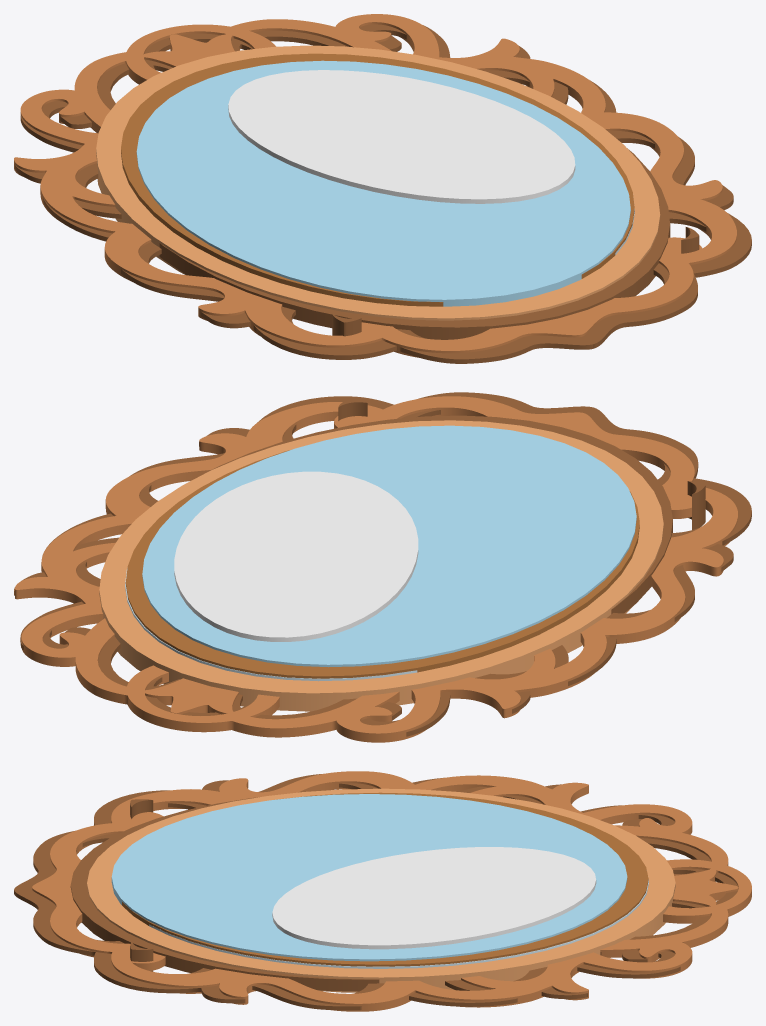
File: emoji_u1fa9e.glb
The picture shows the model from 3 angles, top to bottom: view 1: azimuth 30°, elevation 25°; view 2: azimuth 150°, elevation 25°; view 3: azimuth 270°, elevation 25°; orthographic projection. The views are drawn at different scales.
Parts seen in each view (by area): view 1: emoji_u1fa9e; view 2: emoji_u1fa9e; view 3: emoji_u1fa9e.
Boxes of the visible parts, bbox=[...] form: emoji_u1fa9e: bbox=[14, 14, 751, 363]; emoji_u1fa9e: bbox=[14, 392, 751, 742]; emoji_u1fa9e: bbox=[14, 771, 751, 1011].
Bounding box in the file's own units: 0.0253 × 0.0018 × 0.0338.
